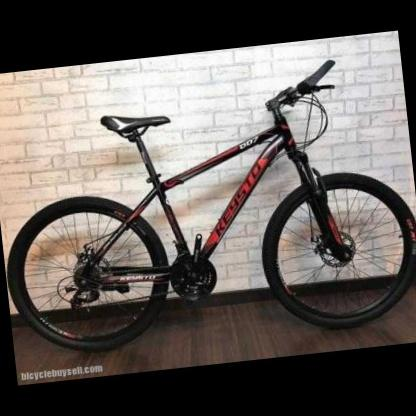Bicycle: (0, 59, 407, 351)
